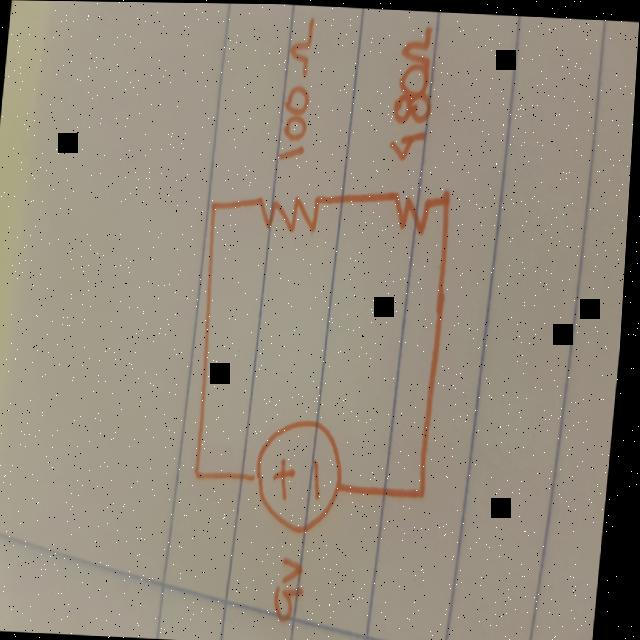junction: (207, 194, 225, 217), (417, 481, 435, 504), (440, 185, 457, 209), (196, 462, 212, 484)
resistor: (255, 182, 330, 236), (392, 183, 434, 237)
source: (254, 412, 355, 533)
text: (384, 24, 438, 160), (277, 14, 318, 162), (276, 548, 315, 622)
